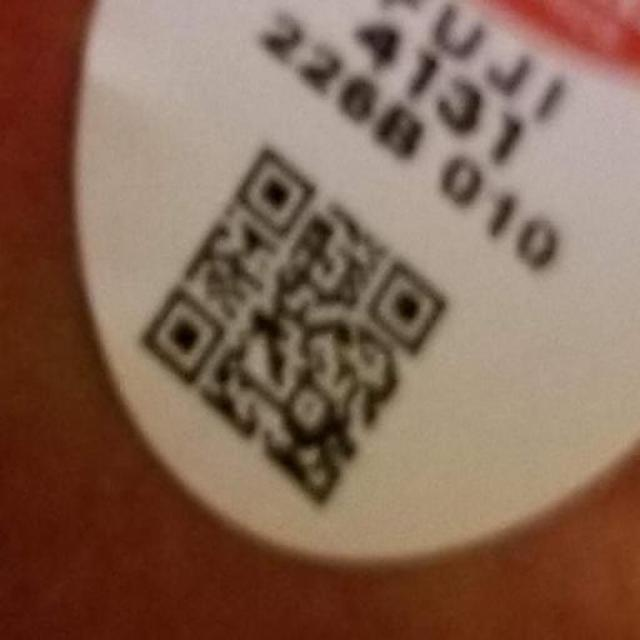QR_CODE: (121, 120, 494, 528)
